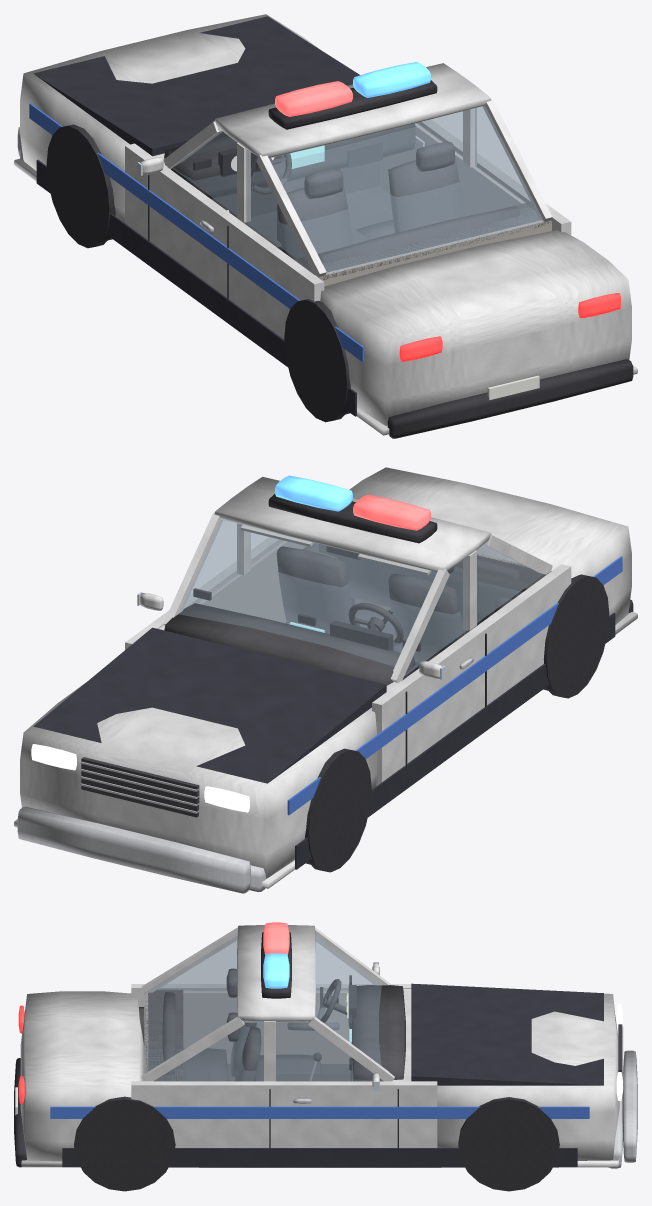
File: police.glb
3 renders of one model, top to bottom at view 1: azimuth 30°, elevation 25°; view 2: azimuth 150°, elevation 25°; view 3: azimuth 270°, elevation 25°, orthographic. The views are drawn at different scales.
Visible parts, largest first — view 1: police_body, SirenR, SirenB; view 2: police_body, SirenB, SirenR; view 3: police_body, SirenB, SirenR.
Boxes of the visible parts, x1=… form: police_body: x1=14, y1=14, x2=637, y2=438; SirenR: x1=275, y1=81, x2=352, y2=116; SirenB: x1=353, y1=62, x2=430, y2=97; police_body: x1=14, y1=467, x2=637, y2=893; SirenB: x1=275, y1=475, x2=352, y2=511; SirenR: x1=353, y1=494, x2=430, y2=530; police_body: x1=14, y1=925, x2=637, y2=1191; SirenB: x1=263, y1=953, x2=289, y2=988; SirenR: x1=263, y1=922, x2=289, y2=954.
Bounding box in the file's own units: 2.18 × 1.62 × 4.79.
25 materials, 11 textured.
